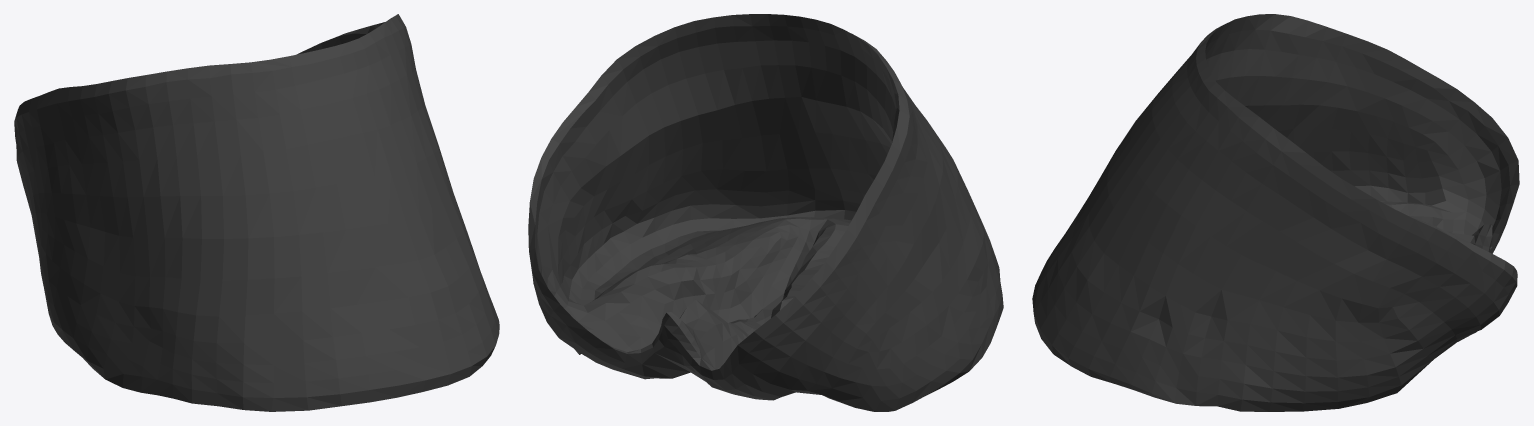
The model's file is Hoof_RFL.glb.
3 views of the same model, side by side, from view 1: azimuth 30°, elevation 25°; view 2: azimuth 150°, elevation 25°; view 3: azimuth 270°, elevation 25° (orthographic). The views are drawn at different scales.
Parts seen in each view (by area): view 1: Hoof_RFL; view 2: Hoof_RFL; view 3: Hoof_RFL.
Boxes of the visible parts, box(x1,y1,x2,y2) form: Hoof_RFL: box(14, 14, 499, 411); Hoof_RFL: box(528, 14, 1003, 411); Hoof_RFL: box(1032, 14, 1519, 411).
Bounding box in the file's own units: 0.1225 × 0.0975 × 0.1508.
Materials: 1 (1 with a texture image).
